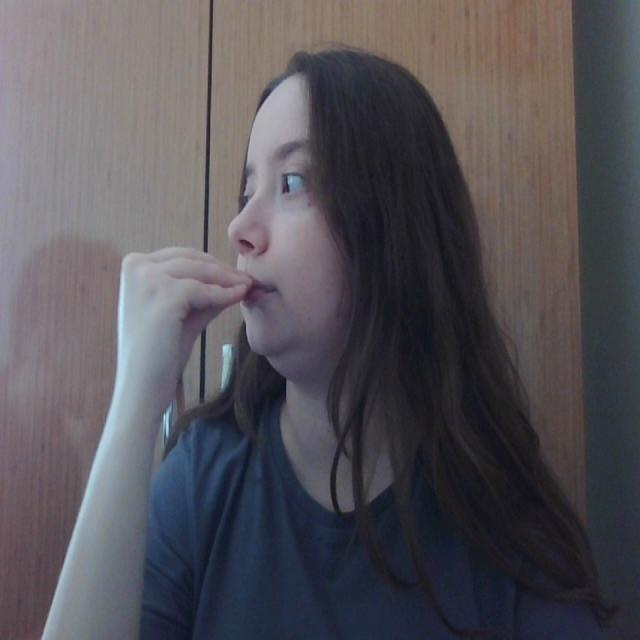Yemek: (116, 244, 284, 321)
